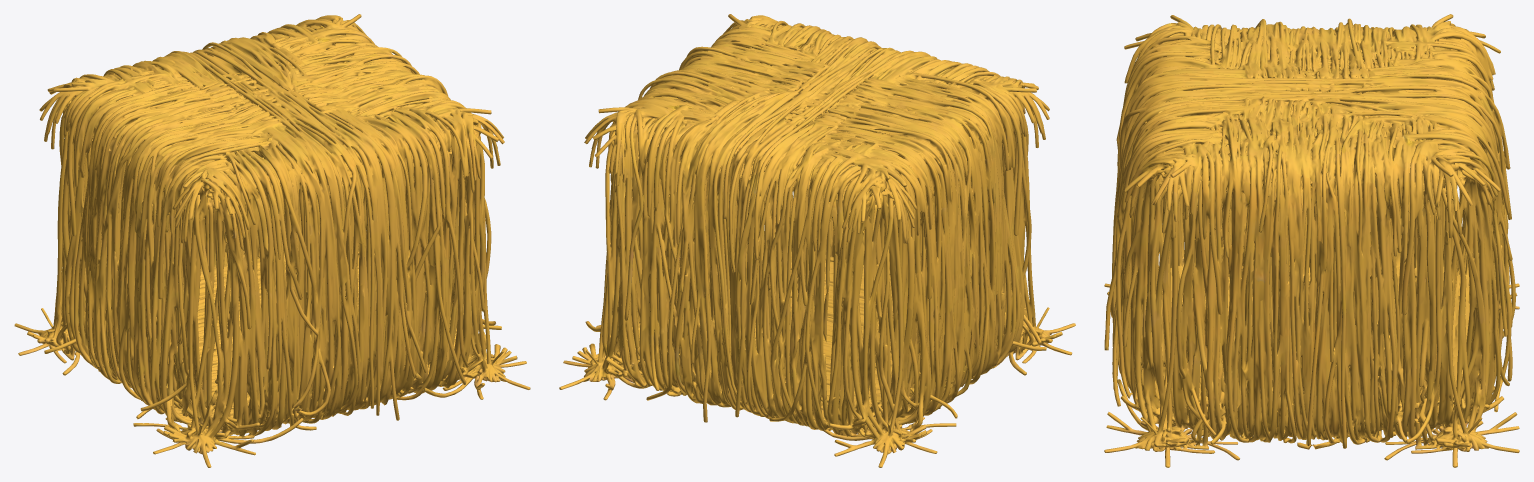
File: Meshy_AI_A_large_rectangular_c_0824213058_texture-optimized.glb
The picture shows the model from 3 angles, left to right: view 1: azimuth 30°, elevation 25°; view 2: azimuth 150°, elevation 25°; view 3: azimuth 270°, elevation 25°; orthographic projection. The views are drawn at different scales.
Parts seen in each view (by area): view 1: mesh_node; view 2: mesh_node; view 3: mesh_node.
Part boxes in pixels (x1=…): mesh_node: x1=14, y1=14, x2=530, y2=467; mesh_node: x1=559, y1=14, x2=1075, y2=467; mesh_node: x1=1104, y1=14, x2=1519, y2=467.
Size of the model in its own units: 1.88 by 1.3 by 1.7.
1 material, 1 textured.
